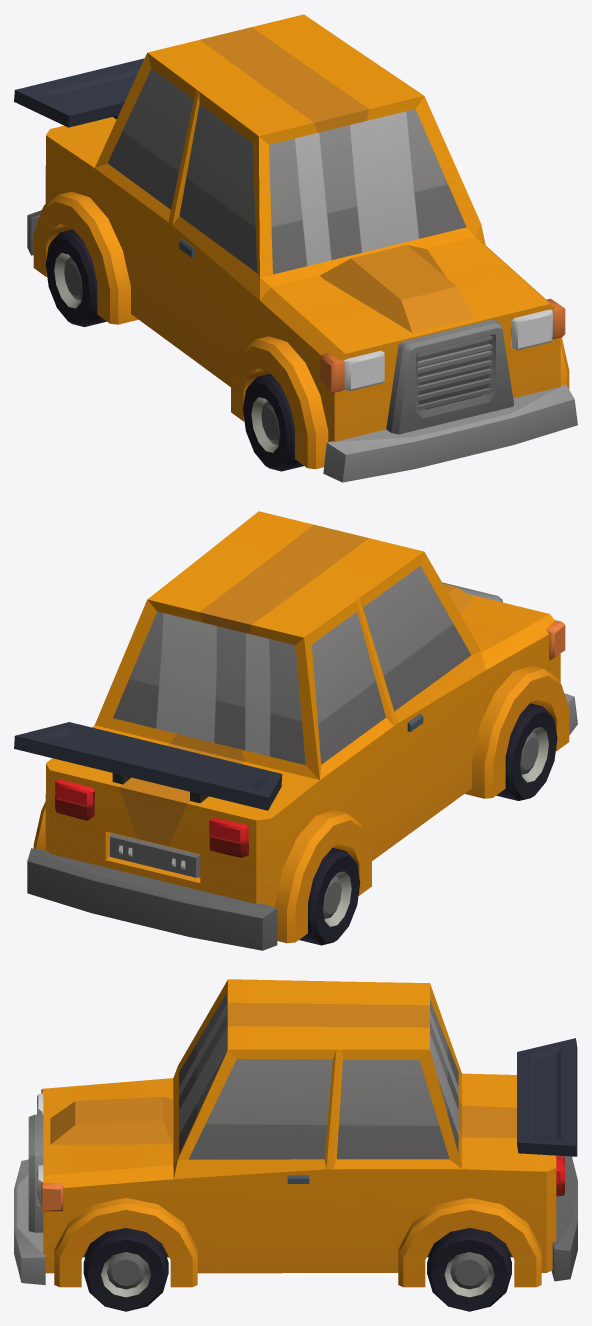
The model's file is SportCar_14.glb.
3 renders of one model, top to bottom at view 1: azimuth 30°, elevation 25°; view 2: azimuth 150°, elevation 25°; view 3: azimuth 270°, elevation 25°, orthographic. The views are drawn at different scales.
Parts seen in each view (by area): view 1: SportCar_14, Wheel_fr, Wheel_br; view 2: SportCar_14, Wheel_br, Wheel_fr; view 3: SportCar_14, Wheel_fl, Wheel_bl.
Part boxes in pixels (x1,y1,x2,y2): SportCar_14: (14, 14, 577, 482); Wheel_fr: (243, 373, 303, 471); Wheel_br: (45, 229, 106, 326); SportCar_14: (14, 511, 577, 950); Wheel_br: (299, 847, 360, 945); Wheel_fr: (496, 703, 557, 800); SportCar_14: (14, 979, 577, 1287); Wheel_fl: (83, 1228, 168, 1311); Wheel_bl: (427, 1228, 511, 1311).
Bounding box in the file's own units: 1.12 × 1.1 × 2.33.
7 materials, 7 textured.
